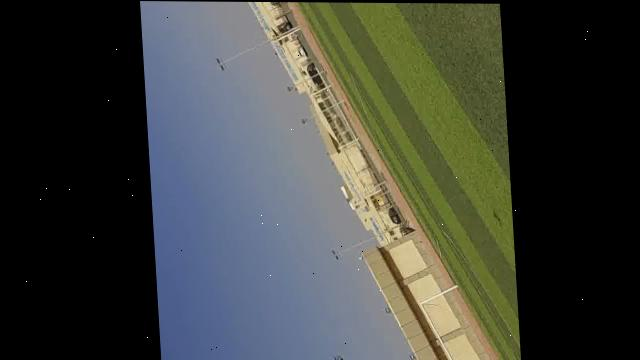drone: (325, 351, 349, 360)
